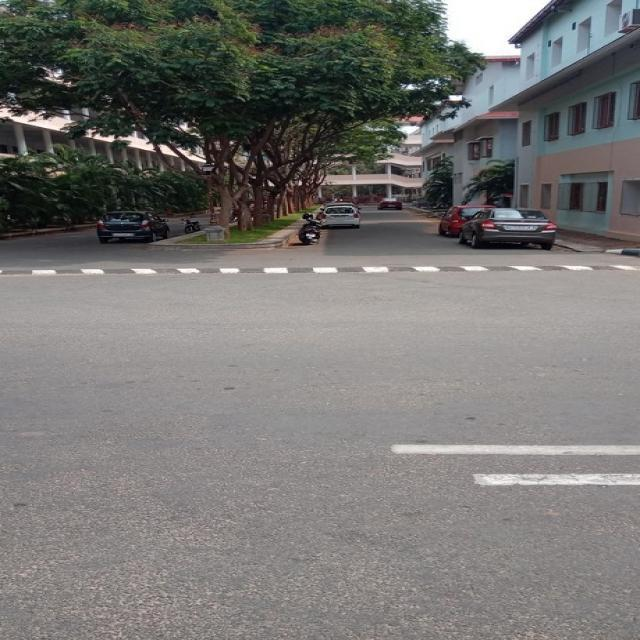speedbreaker: (0, 257, 640, 280)
